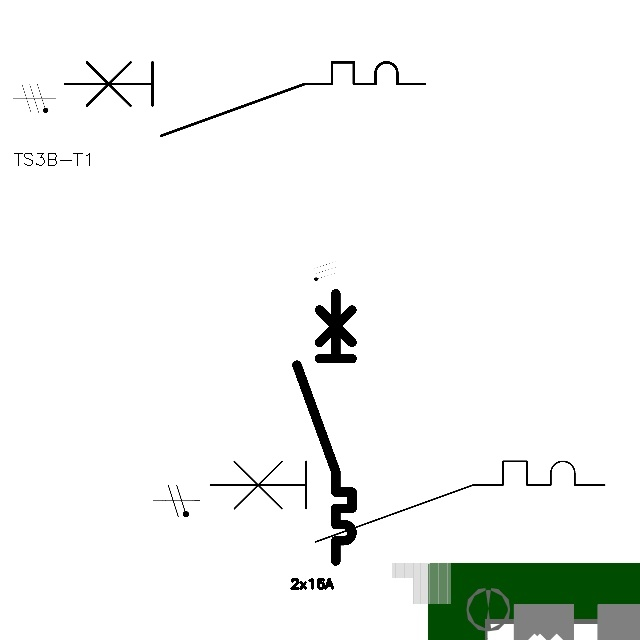interruptor_termomagnetico: (199, 451, 614, 552), (55, 53, 433, 145), (290, 286, 359, 567)
